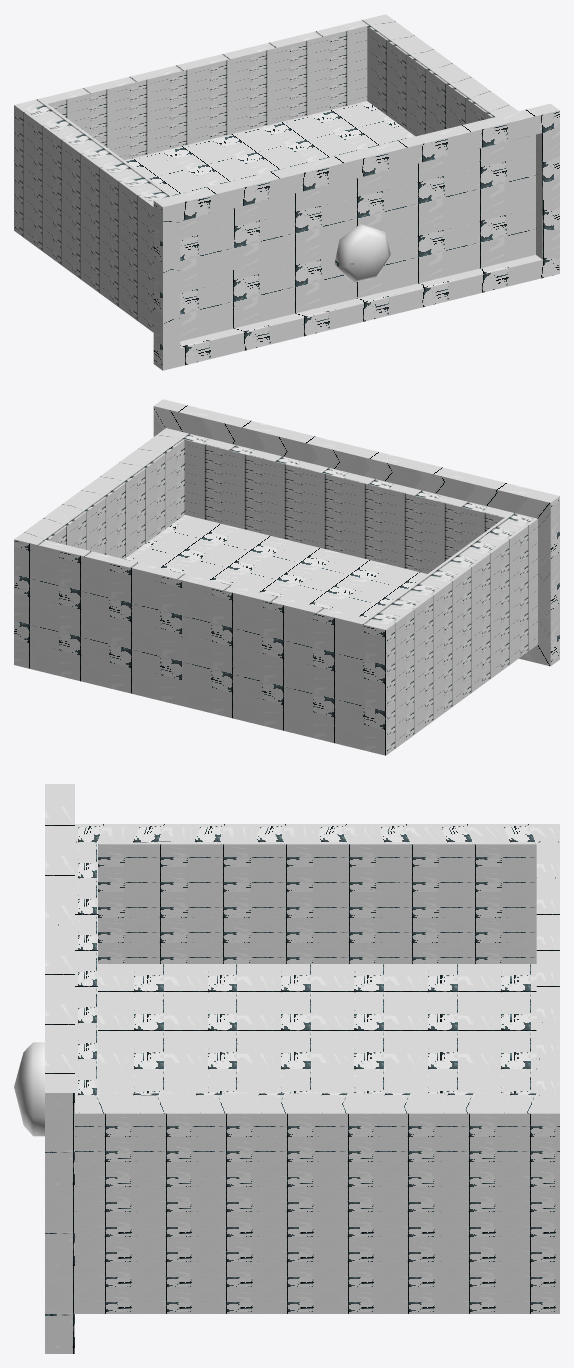
File: ShelfTopDoor.FBX
3 views of the same model, one above another, from view 1: azimuth 30°, elevation 25°; view 2: azimuth 150°, elevation 25°; view 3: azimuth 270°, elevation 25° (orthographic). The views are drawn at different scales.
Visible parts, largest first — view 1: ShelfDrawerTopDoor; view 2: ShelfDrawerTopDoor; view 3: ShelfDrawerTopDoor.
Boxes of the visible parts, <box> form: ShelfDrawerTopDoor: <box>14,14,559,370</box>; ShelfDrawerTopDoor: <box>14,399,559,755</box>; ShelfDrawerTopDoor: <box>14,784,559,1353</box>.
Bounding box in the file's own units: 1.19 × 0.8876 × 0.4677.
1 material, 1 textured.
